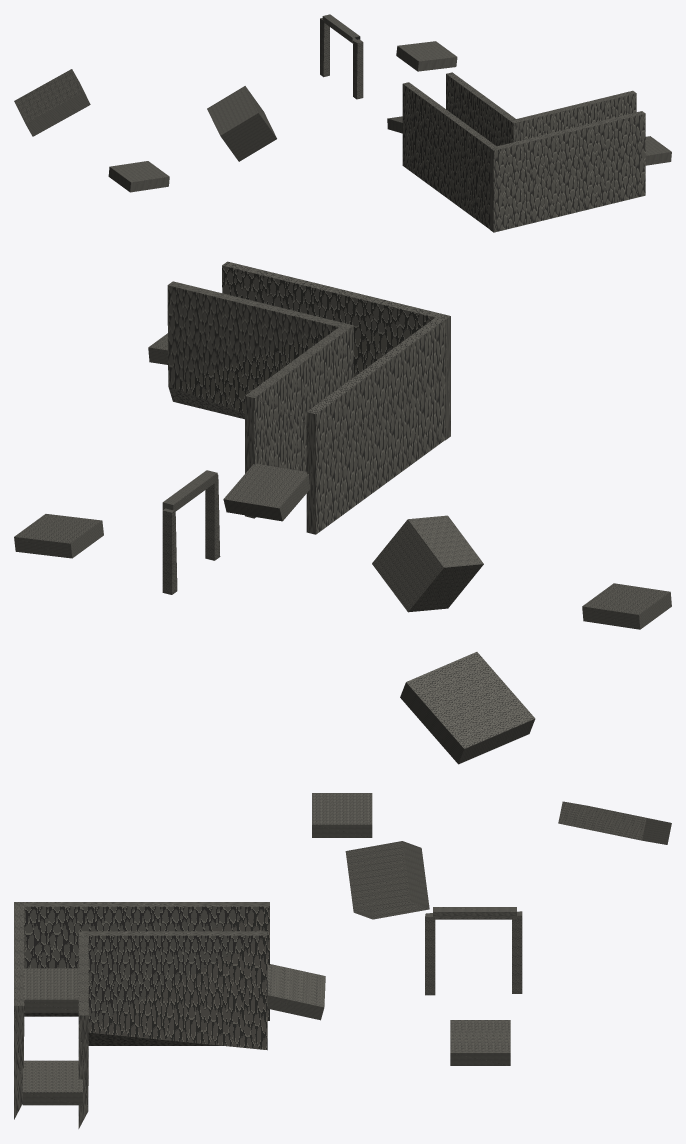
File: SandWorld_D.obj
3 renders of one model, top to bottom at view 1: azimuth 30°, elevation 25°; view 2: azimuth 150°, elevation 25°; view 3: azimuth 270°, elevation 25°, orthographic. The views are drawn at different scales.
Parts seen in each view (by area): view 1: Cube.568_Cube.025, Cube.401_Cube.022, Cube.566_Cube.023, Cube.569_Cube.026, Grass.068_Grass.022, Grass.073_Grass.023, Grass.069_Grass.023, Grass.058_Grass.022, Grass.048_Grass.013, Grass.099_Grass.031, Cube.226_Cube.005, Cube.227_Cube.005 (+2 smaller); view 2: Cube.401_Cube.022, Cube.569_Cube.026, Cube.568_Cube.025, Cube.566_Cube.023, Grass.068_Grass.022, Grass.072_Grass.023, Grass.084_Grass.028, Grass.069_Grass.023, Grass.071_Grass.023, Grass.048_Grass.013, Grass.099_Grass.031, Grass.065_Grass.022 (+6 smaller); view 3: Cube.566_Cube.023, Cube.401_Cube.022, Grass.070_Grass.023, Cube.568_Cube.025, Grass.099_Grass.031, Grass.067_Grass.022, Grass.048_Grass.013, Cube.569_Cube.026, Grass.090_Grass.030, Grass.084_Grass.028, Grass.089_Grass.029, Grass.072_Grass.023 (+10 smaller).
Part boxes in pixels (x1,y1,x2,y2): Cube.568_Cube.025: (490,111,645,232); Cube.401_Cube.022: (402,82,496,229); Cube.566_Cube.023: (446,72,519,146); Cube.569_Cube.026: (516,90,636,140); Grass.068_Grass.022: (14,69,83,123); Grass.073_Grass.023: (220,113,276,161); Grass.069_Grass.023: (207,86,258,135); Grass.058_Grass.022: (25,92,90,136); Grass.048_Grass.013: (110,161,169,182); Grass.099_Grass.031: (397,41,456,61); Cube.226_Cube.005: (353,39,363,99); Cube.227_Cube.005: (320,18,329,77); Cube.401_Cube.022: (306,317,444,534); Cube.569_Cube.026: (167,281,344,419); Cube.568_Cube.025: (222,261,450,440); Cube.566_Cube.023: (245,323,353,518); Grass.068_Grass.022: (406,652,534,748); Grass.072_Grass.023: (372,519,443,611); Grass.084_Grass.028: (223,463,308,508); Grass.069_Grass.023: (408,515,483,567); Grass.071_Grass.023: (408,564,483,612); Grass.048_Grass.013: (582,583,670,614); Grass.099_Grass.031: (14,514,101,543); Grass.065_Grass.022: (400,682,464,764); Cube.566_Cube.023: (78,931,267,1050); Cube.401_Cube.022: (24,902,269,1020); Grass.070_Grass.023: (345,841,410,912); Cube.568_Cube.025: (14,902,24,1119); Grass.099_Grass.031: (450,1020,510,1052); Grass.067_Grass.022: (558,801,646,840); Grass.048_Grass.013: (312,793,372,824); Cube.569_Cube.026: (78,935,88,1128); Grass.090_Grass.030: (22,1060,82,1092); Grass.084_Grass.028: (267,964,325,1007); Grass.089_Grass.029: (24,968,78,999); Grass.072_Grass.023: (402,841,429,909).
Size of the model in its own units: 117 by 20.85 by 107.
Materials: 14 (14 with a texture image).
